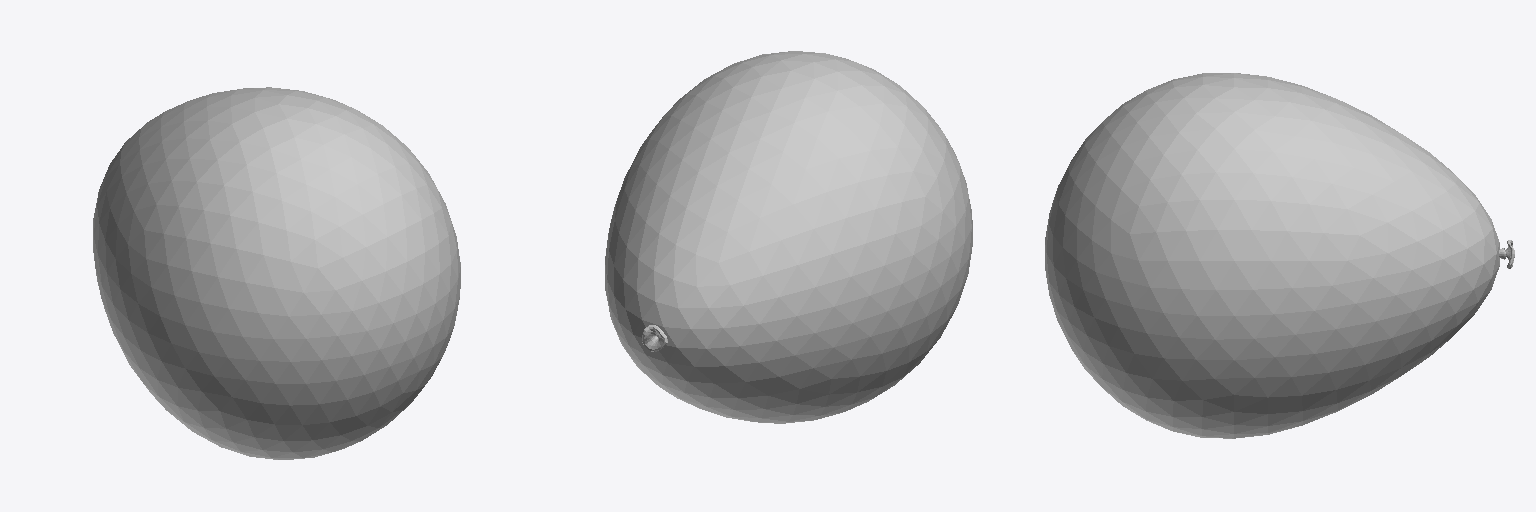
File: balloon.obj
3 renders of one model, left to right at view 1: azimuth 30°, elevation 25°; view 2: azimuth 150°, elevation 25°; view 3: azimuth 270°, elevation 25°, orthographic.
Parts seen in each view (by area): view 1: GeoSphere01; view 2: GeoSphere01; view 3: GeoSphere01.
Boxes of the visible parts, <box> form: GeoSphere01: <box>93,87,460,459</box>; GeoSphere01: <box>605,51,972,423</box>; GeoSphere01: <box>1045,73,1499,438</box>.
Size of the model in its own units: 98.45 by 105 by 133.